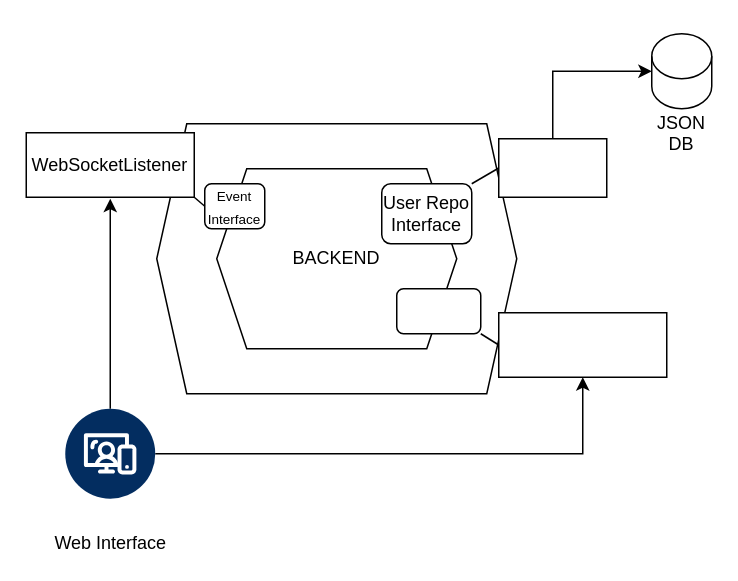
The diagram is 738 pixels wide and 581 high, and some of its shapes have lost their labels. The shapes that lost their labels are listed below. From the top down, each one's box as (x1, y1, x2, y2) in pixels, then its label:
(497, 137, 607, 197): JsonDAO
(395, 287, 481, 334): Command Interface
(497, 311, 667, 377): Rest API
